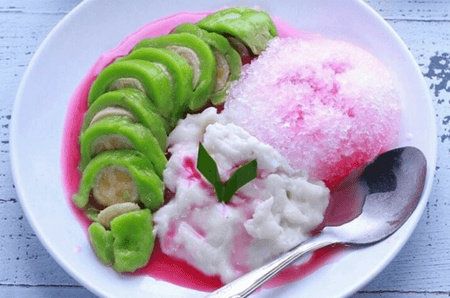es_pisang_ijo: (62, 7, 392, 295)
